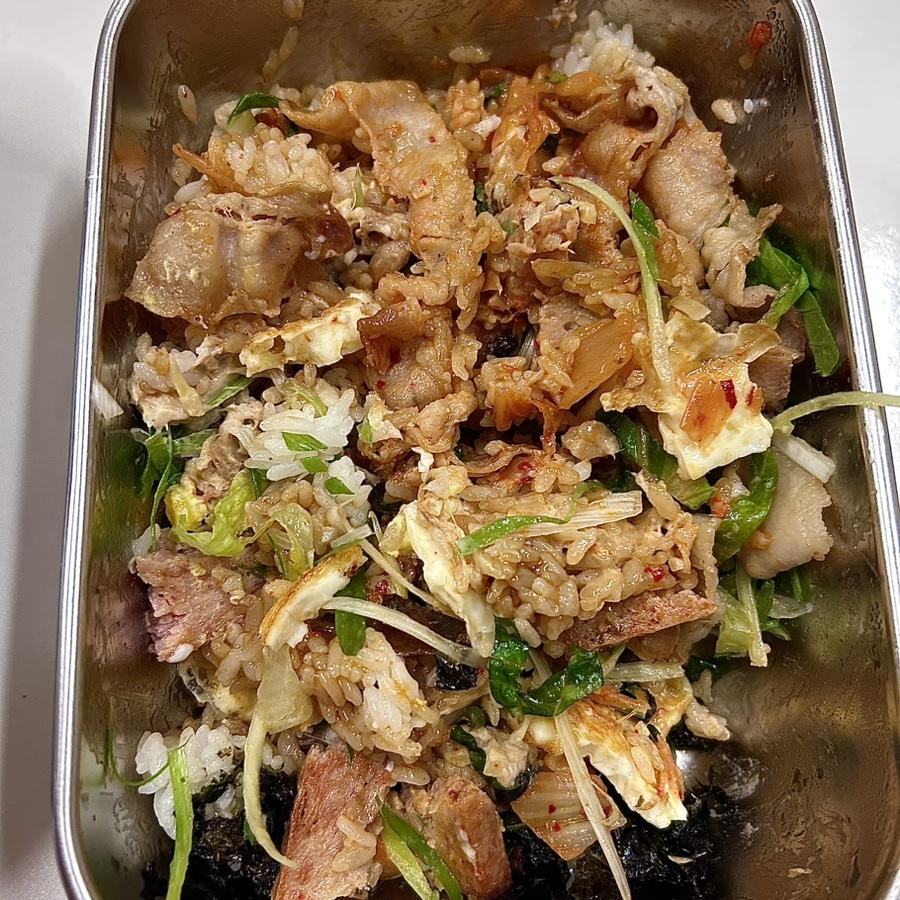Lunch Box: (55, 0, 899, 899)
